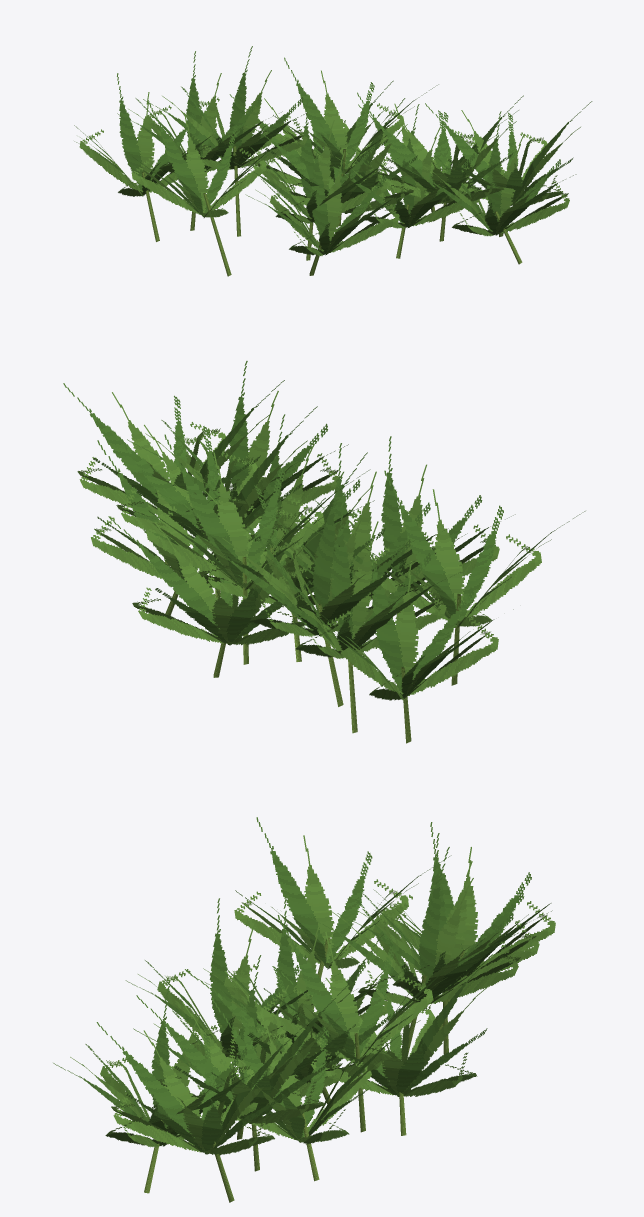
File: flora_sasa.glb
The picture shows the model from 3 angles, top to bottom: view 1: azimuth 30°, elevation 25°; view 2: azimuth 150°, elevation 25°; view 3: azimuth 270°, elevation 25°; orthographic projection. The views are drawn at different scales.
Visible parts, largest first — view 1: flora_sasa; view 2: flora_sasa; view 3: flora_sasa.
Part boxes in pixels (left/top/right/bottom): flora_sasa: left=74, top=46, right=592, bottom=276; flora_sasa: left=63, top=361, right=585, bottom=743; flora_sasa: left=53, top=817, right=555, bottom=1202.
Bounding box in the file's own units: 2.48 × 0.7716 × 2.1.
2 materials, 2 textured.
